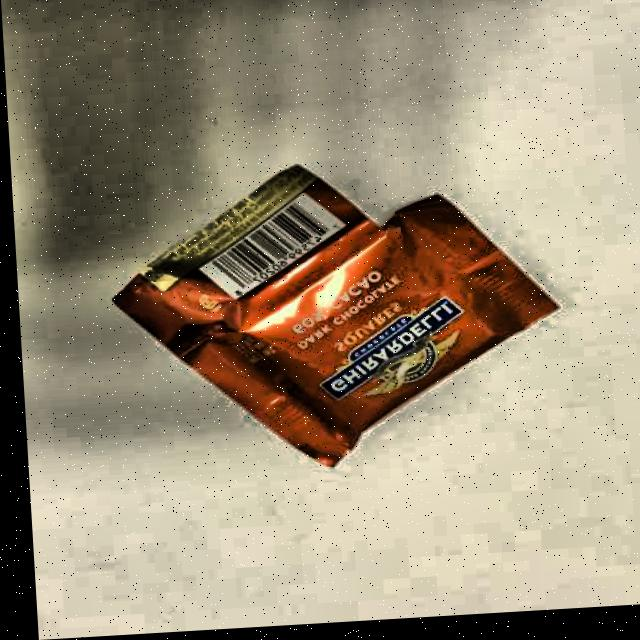plastic: (96, 138, 588, 508)
